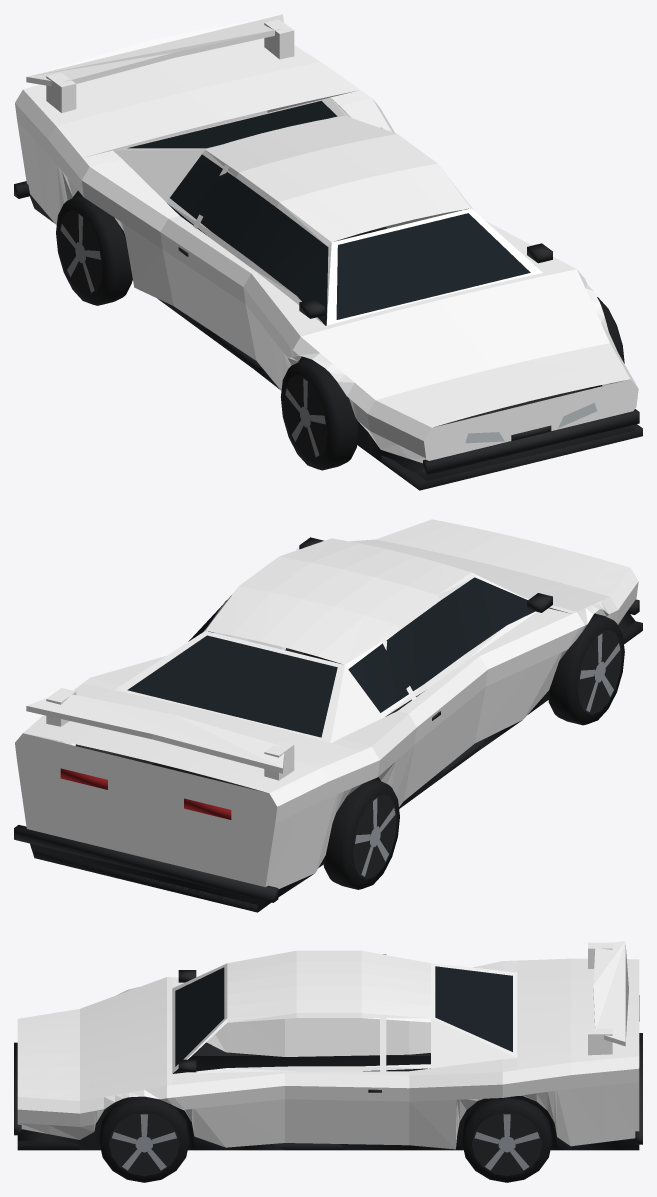
Rendered from vantra_tempora.glb.
The picture shows the model from 3 angles, top to bottom: view 1: azimuth 30°, elevation 25°; view 2: azimuth 150°, elevation 25°; view 3: azimuth 270°, elevation 25°; orthographic projection. The views are drawn at different scales.
Visible parts, largest first — view 1: Body_Paint, Body_Details, Mount_FrontLeft_Wheel_Details, Mount_RearLeft_Wheel_Details; view 2: Body_Paint, Body_Details, Mount_RearLeft_Wheel_Details, Mount_FrontLeft_Wheel_Details; view 3: Body_Paint, Body_Details, Mount_FrontRight_Wheel_Details, Mount_RearRight_Wheel_Details.
Boxes of the visible parts, <box> form: Body_Paint: <box>15,14,638,463</box>; Body_Details: <box>14,100,642,490</box>; Mount_FrontLeft_Wheel_Details: <box>280,359,358,470</box>; Mount_RearLeft_Wheel_Details: <box>56,195,132,305</box>; Body_Paint: <box>15,519,638,889</box>; Body_Details: <box>14,537,642,912</box>; Mount_RearLeft_Wheel_Details: <box>323,779,399,889</box>; Mount_FrontLeft_Wheel_Details: <box>547,613,624,725</box>; Body_Paint: <box>17,941,639,1149</box>; Body_Details: <box>14,966,642,1150</box>; Mount_FrontRight_Wheel_Details: <box>99,1096,189,1182</box>; Mount_RearRight_Wheel_Details: <box>462,1098,552,1182</box>.
Size of the model in its own units: 2.03 by 1.19 by 4.59.
2 materials, 1 textured.
